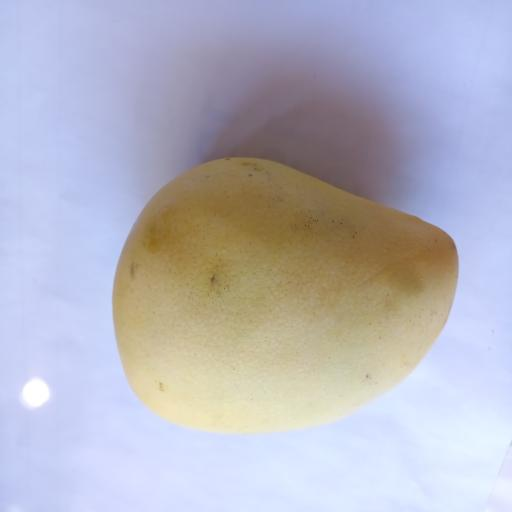mango-ripe: (81, 141, 476, 456)
